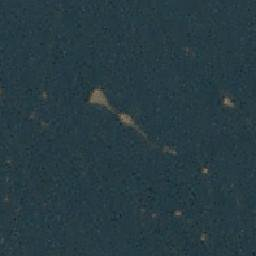debris: (87, 87, 115, 112), (118, 111, 142, 133), (161, 145, 178, 157), (222, 96, 236, 108), (173, 209, 185, 218), (200, 166, 210, 176)
